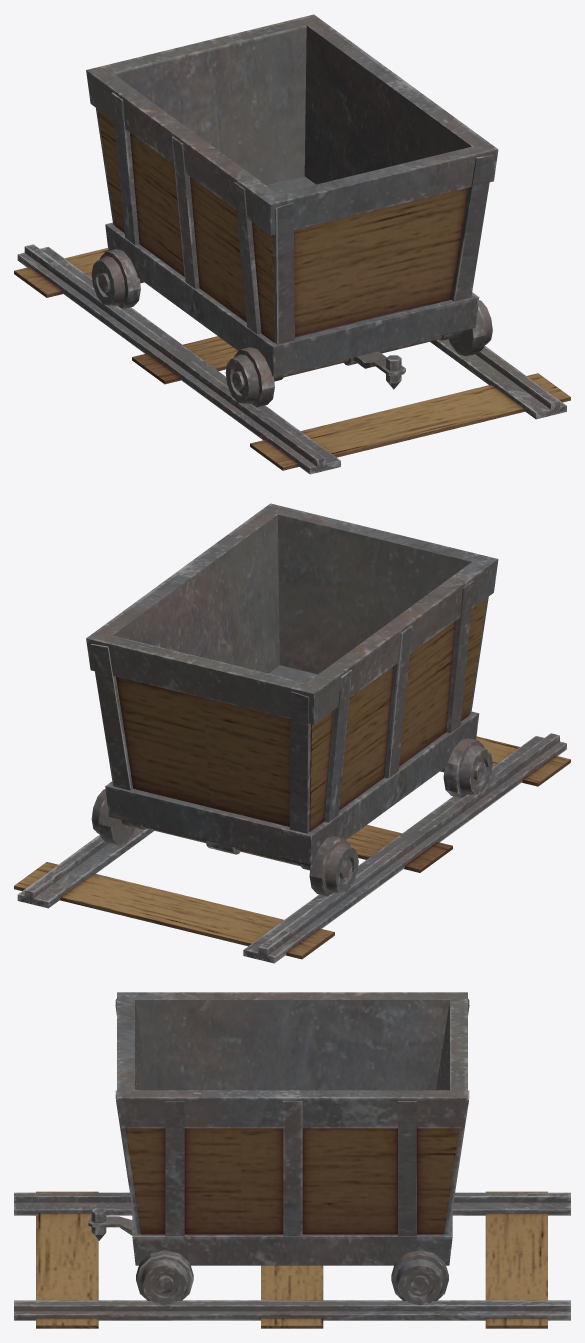
Rendered from minecart.fbx.
The picture shows the model from 3 angles, top to bottom: view 1: azimuth 30°, elevation 25°; view 2: azimuth 150°, elevation 25°; view 3: azimuth 270°, elevation 25°; orthographic projection. The views are drawn at different scales.
Parts seen in each view (by area): view 1: minecart, rails; view 2: minecart, rails; view 3: minecart, rails.
Boxes of the visible parts, left/top/right/bottom form: minecart: left=86, top=14, right=498, bottom=407; rails: left=14, top=244, right=570, bottom=474; minecart: left=86, top=503, right=498, bottom=896; rails: left=14, top=733, right=570, bottom=963; minecart: left=88, top=992, right=469, bottom=1305; rails: left=14, top=1191, right=570, bottom=1328.
Bounding box in the file's own units: 228 × 172 × 401.
